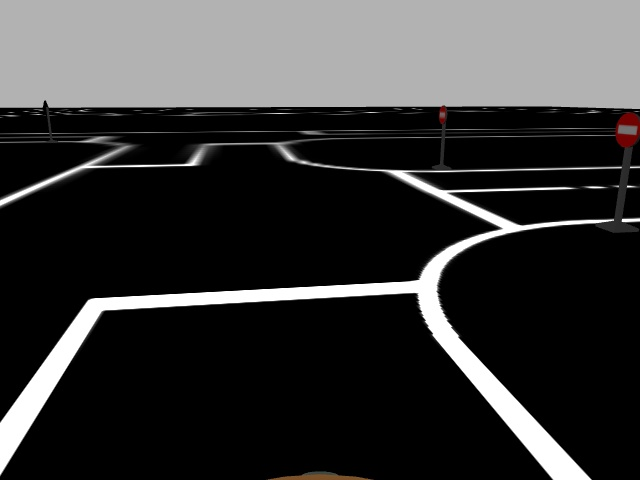prohibited: (614, 110, 640, 152), (436, 102, 448, 126)
